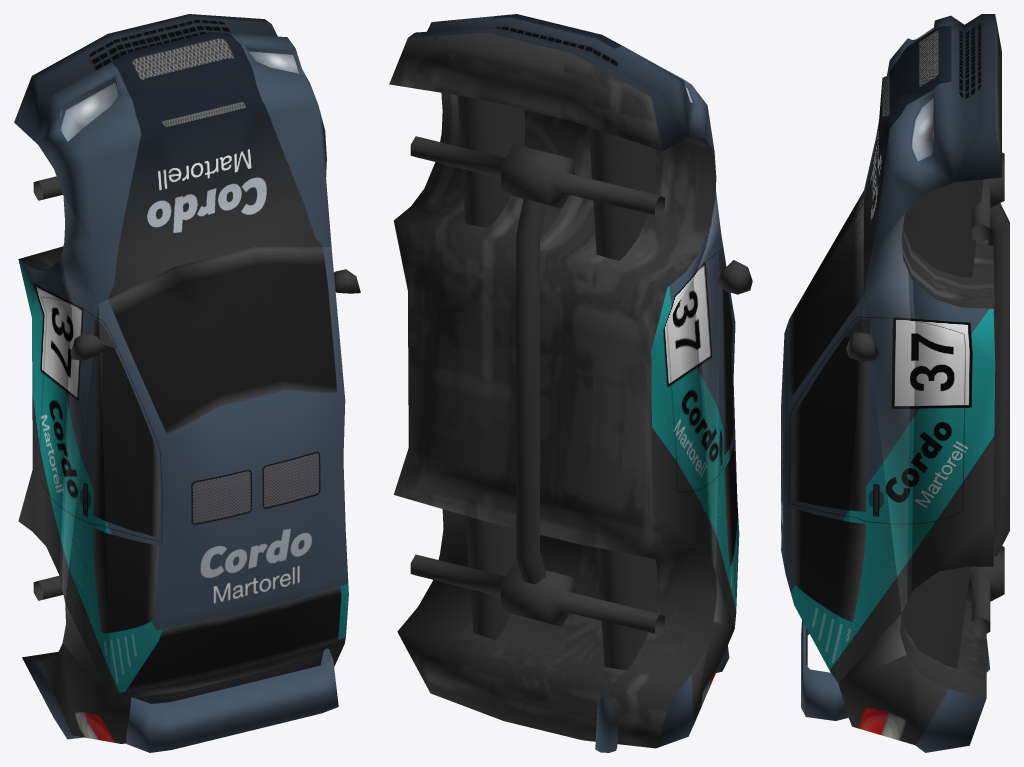
The model's file is cordo_kitcar.obj.
3 renders of one model, left to right at view 1: azimuth 30°, elevation 25°; view 2: azimuth 150°, elevation 25°; view 3: azimuth 270°, elevation 25°, orthographic. The views are drawn at different scales.
Parts seen in each view (by area): view 1: seat_seat.006; view 2: seat_seat.006; view 3: seat_seat.006.
Part boxes in pixels (x1,y1,x2,y2): seat_seat.006: (14,14,360,752); seat_seat.006: (389,14,752,752); seat_seat.006: (781,14,1009,752).
Bounding box in the file's own units: 1.86 × 4.16 × 1.31.
Materials: 2 (2 with a texture image).
